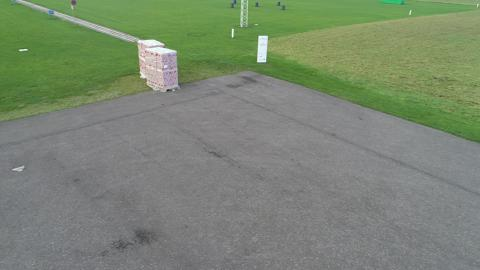RockwoolPallet: (137, 39, 167, 73)
